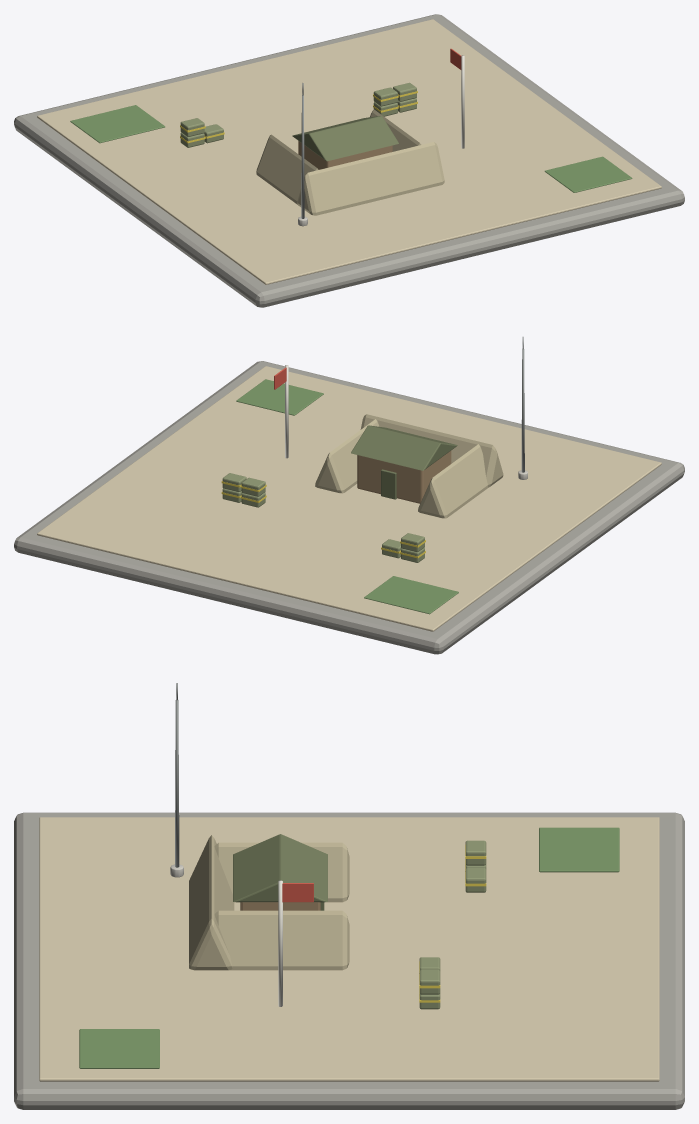
File: tnt_1.glb
3 renders of one model, top to bottom at view 1: azimuth 30°, elevation 25°; view 2: azimuth 150°, elevation 25°; view 3: azimuth 270°, elevation 25°, orthographic. The views are drawn at different scales.
Parts seen in each view (by area): view 1: Cube.001, Cube, prism, prism.003, prism.001, Cube.002, Cube.003, Cube.004, prism.002; view 2: Cube.001, Cube, prism.001, prism.003, Cube.004, Cube.002, prism, prism.002, Cube.003; view 3: Cube.001, Cube, prism.002, prism.003, prism, Cube.002, Cube.003, prism.001, Cone, Cube.004, Cube.020.
Boxes of the visible parts, x1,y1,x2,y2 form: Cube.001: [37, 19, 661, 284]; Cube: [14, 14, 684, 307]; prism: [297, 142, 444, 215]; prism.003: [292, 116, 398, 161]; prism.001: [256, 134, 318, 204]; Cube.002: [70, 105, 165, 143]; Cube.003: [544, 156, 632, 192]; Cube.004: [298, 141, 392, 169]; prism.002: [370, 109, 421, 151]; Cube.001: [37, 366, 661, 631]; Cube: [14, 361, 684, 654]; prism.001: [418, 444, 488, 518]; prism.003: [351, 425, 457, 470]; Cube.004: [357, 450, 451, 503]; Cube.002: [364, 576, 458, 614]; prism: [360, 414, 503, 487]; prism.002: [315, 419, 379, 493]; Cube.003: [236, 379, 323, 415]; Cube.001: [39, 817, 659, 1081]; Cube: [14, 812, 684, 1109]; prism.002: [214, 910, 349, 970]; prism.003: [233, 834, 327, 902]; prism: [189, 835, 234, 970]; Cube.002: [539, 827, 619, 872]; Cube.003: [79, 1029, 159, 1068]; prism.001: [214, 842, 349, 902]; Cone: [175, 700, 179, 867]; Cube.004: [240, 902, 320, 910]; Cube.020: [282, 883, 313, 902].
Size of the model in its own units: 2.92 by 1.04 by 2.92.
